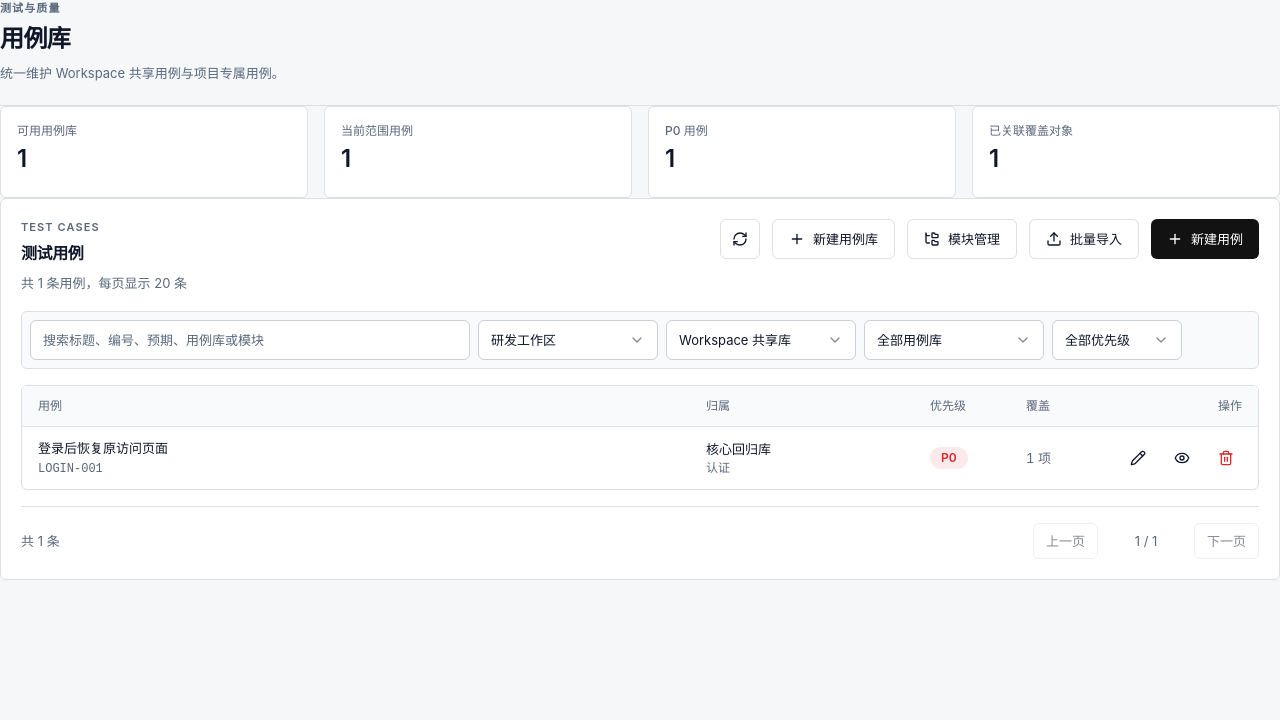
Quality pages › loads the selected workspace case library and test cases
The width and height of the screenshot is (1280, 720).
Expected: the text "自动返回登录前页面" is not shown
Expected: the table is shown, [22,386,1258,489]
Step 1. Click the button named "查看用例：登录后恢复原访问页面" → [1182, 458], box [1162,438,1202,478]
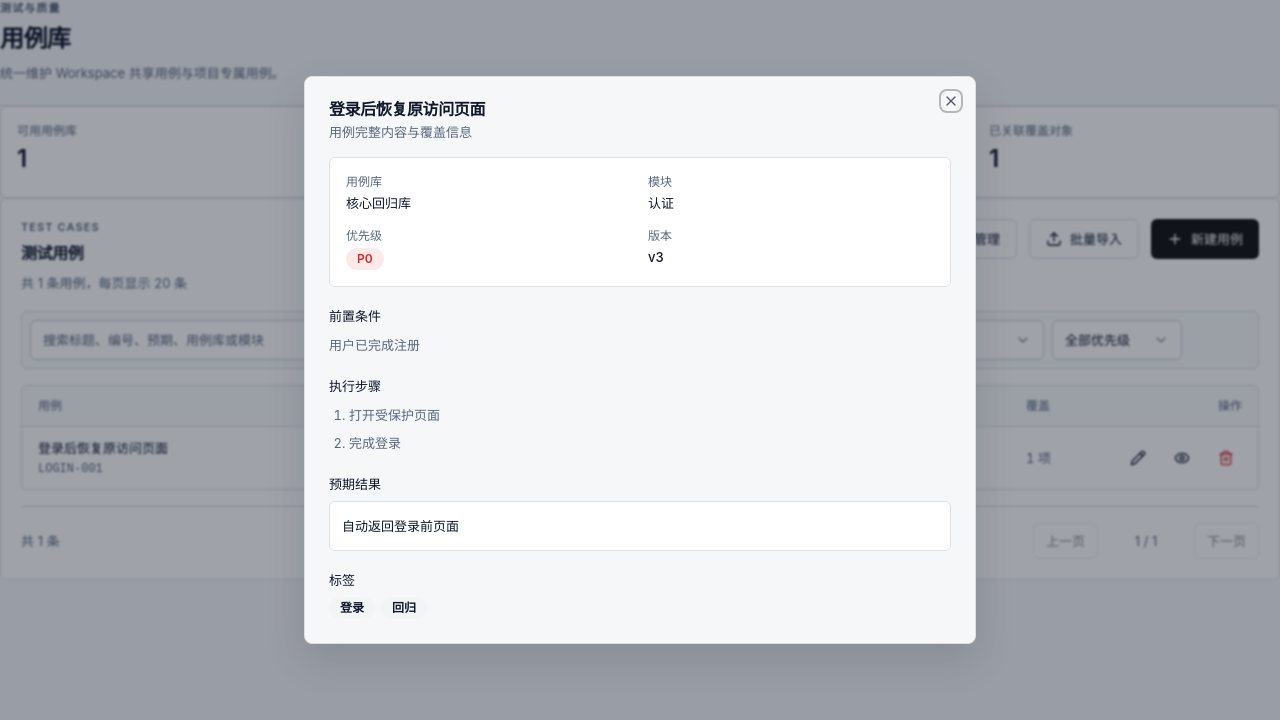
Now the text "自动返回登录前页面" is shown, box [329,501,951,551]
